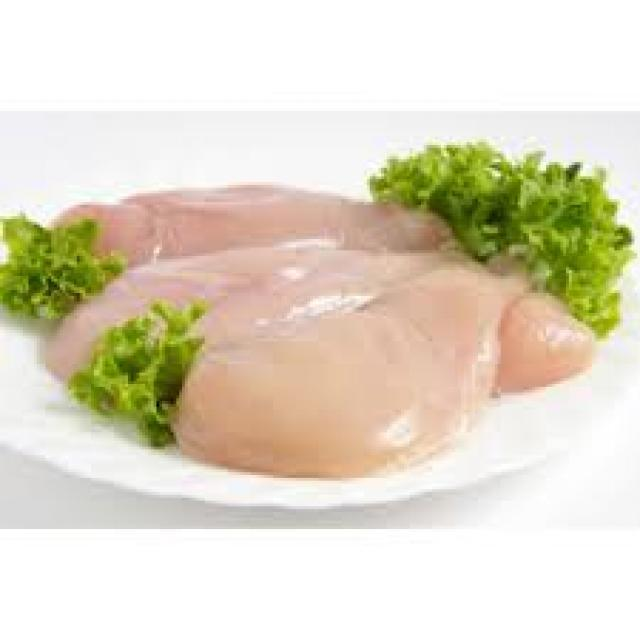chicken: (27, 248, 610, 476), (32, 172, 476, 261)
